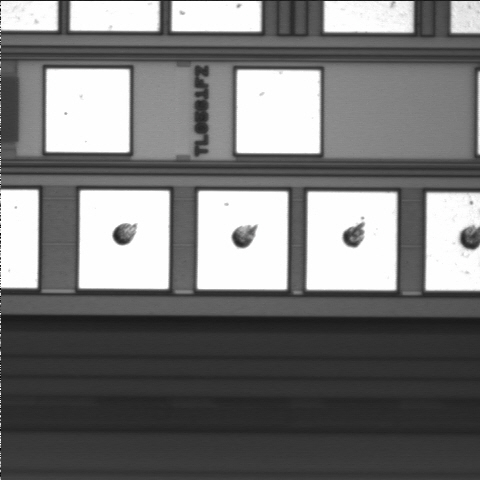pad: (197, 191, 288, 290), (79, 190, 169, 289), (307, 192, 397, 290), (46, 69, 130, 152), (237, 70, 320, 153)
